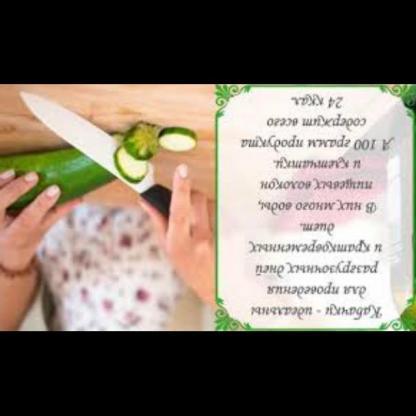vegetable marrow: (1, 138, 121, 210), (127, 119, 197, 172), (120, 144, 150, 189)
